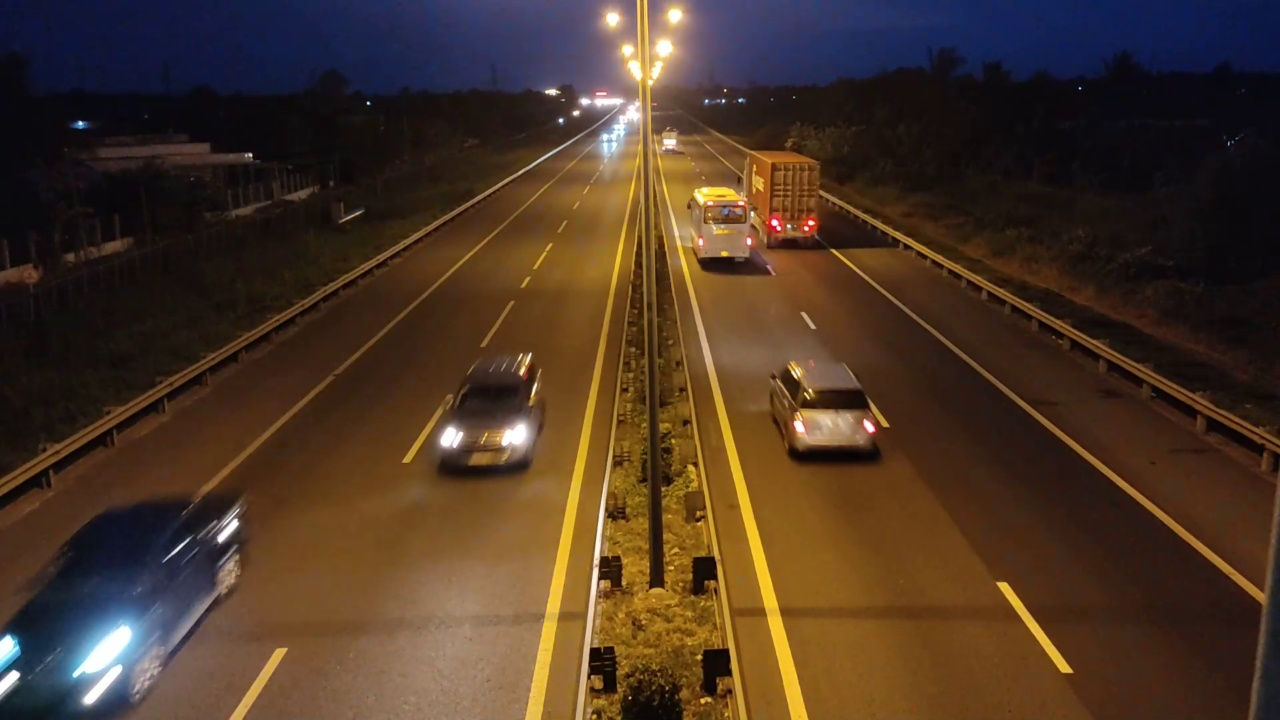bus: (684, 174, 762, 270)
car: (0, 488, 250, 715), (434, 350, 547, 476), (768, 358, 885, 461)
truck: (742, 147, 822, 248)
